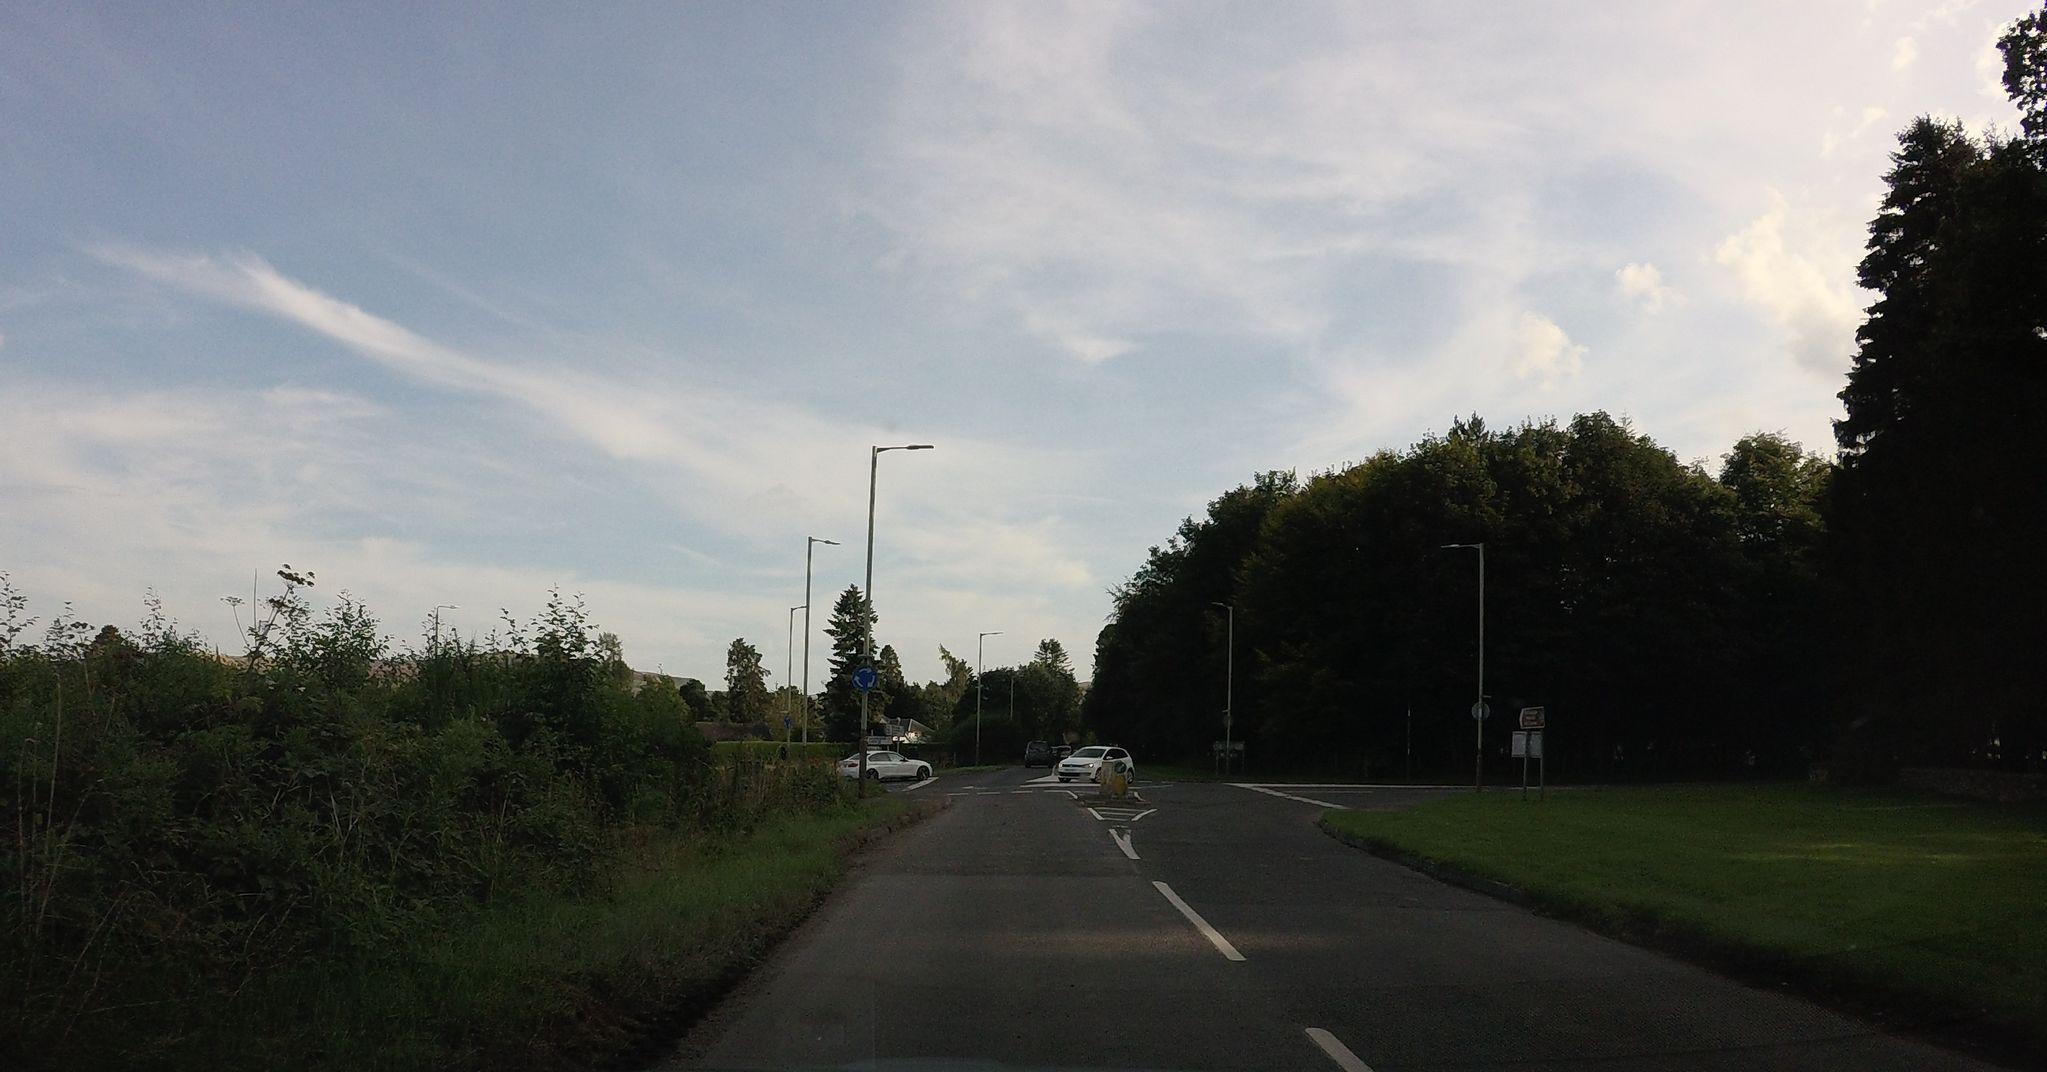car: (837, 750, 933, 781), (1057, 744, 1135, 782), (1023, 740, 1051, 767)
